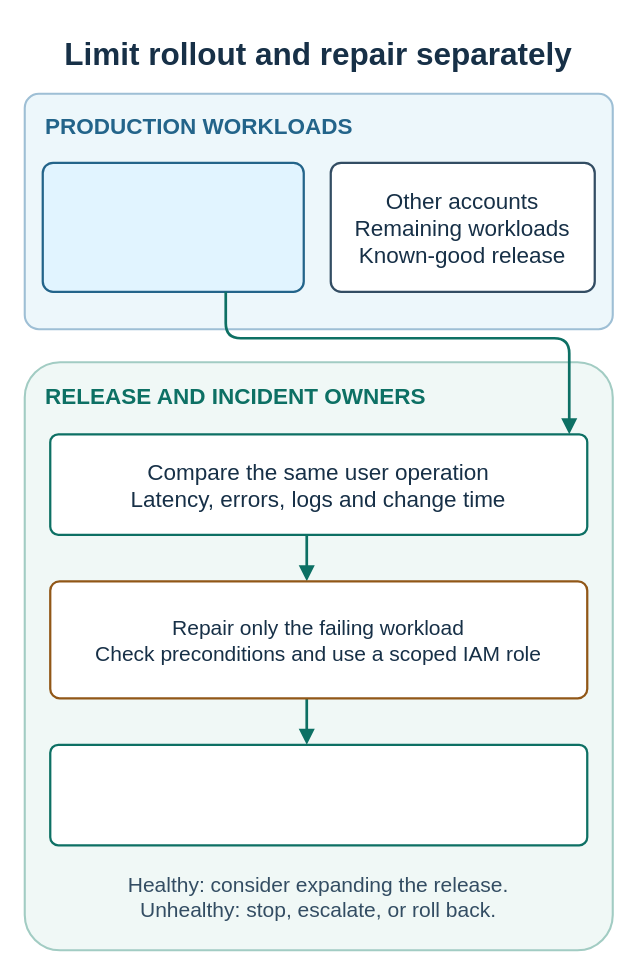
The diagram is 638 pixels wide and 975 high, and some of its shapes have lost their labels. Each missing label, with the box of its shape:
Account A Canary workload New release: (41, 161, 304, 292)
Verify with the same measurements Record success and stop conditions: (48, 743, 588, 846)
